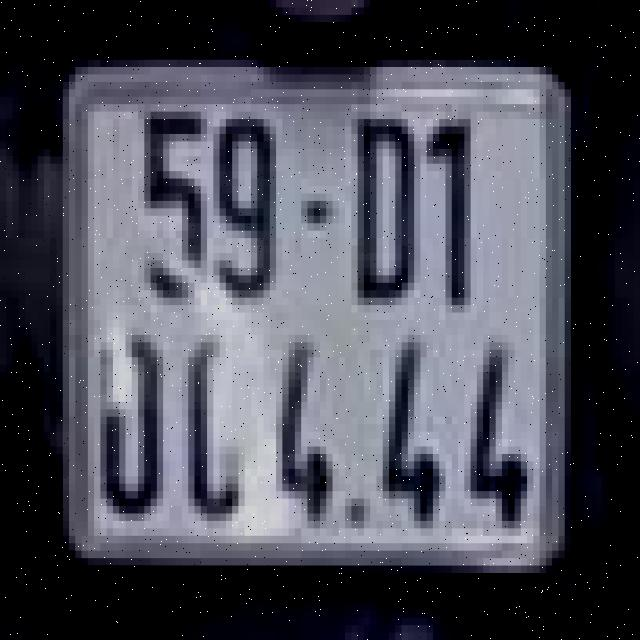0: (82, 320, 163, 528), (172, 316, 248, 532)
1: (424, 108, 480, 316)
4: (458, 316, 546, 532), (361, 331, 448, 540), (267, 324, 348, 532)
5: (132, 96, 213, 312)
9: (213, 96, 289, 312)
D: (342, 100, 417, 324)
